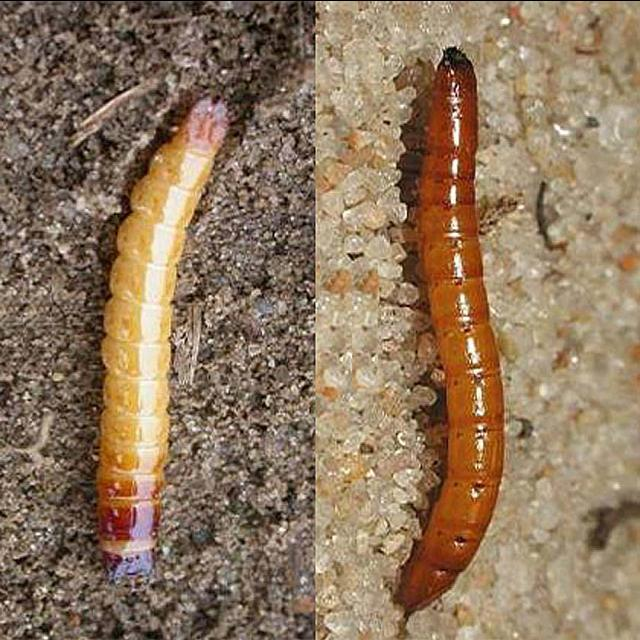wireworm: (78, 76, 236, 593), (383, 47, 511, 616)
